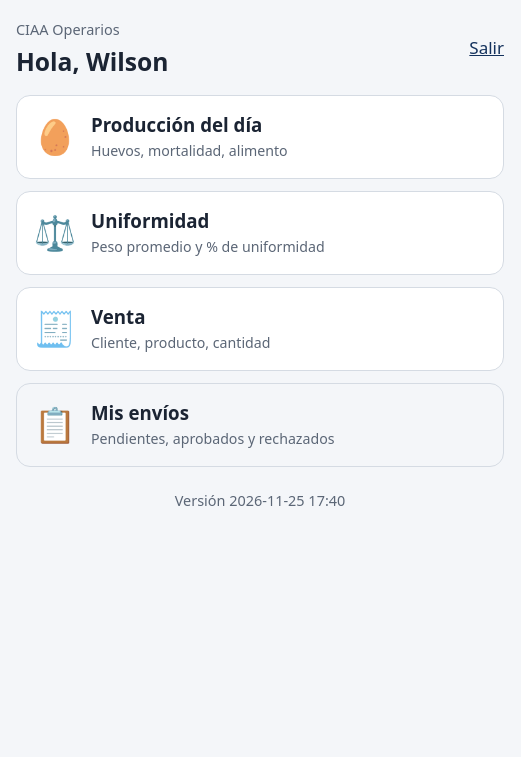
registra la producción del día y la envía
The width and height of the screenshot is (521, 757).
Click the button "Producción del día" at (260, 137), box 16,95 -> 504,179
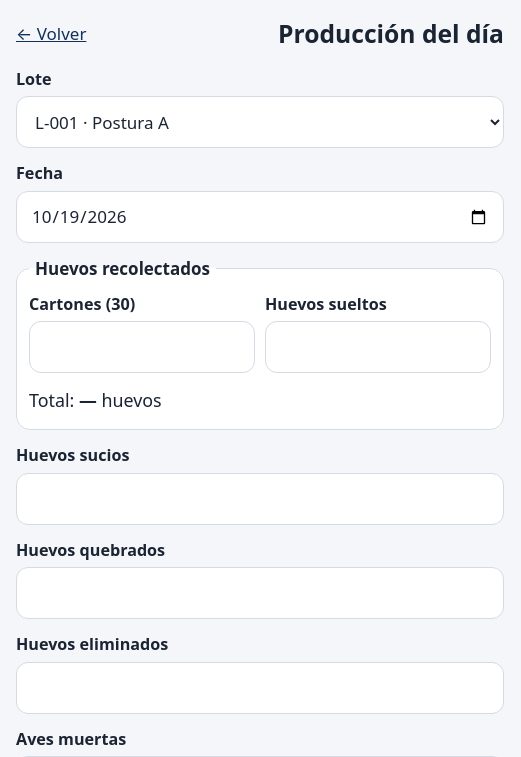
Type "45" into the field labelled "Cartones (30)" at (142, 347), box 29,321 -> 255,373
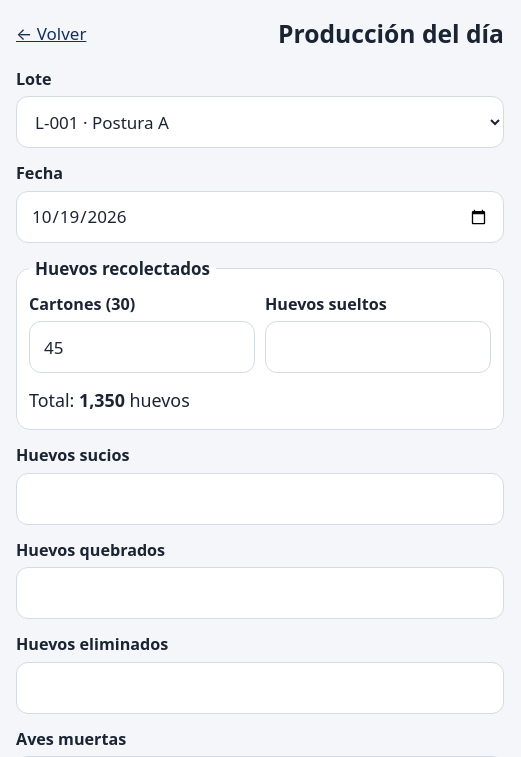
Type "12" into the field labelled "Huevos sueltos" at (378, 347), box 265,321 -> 491,373
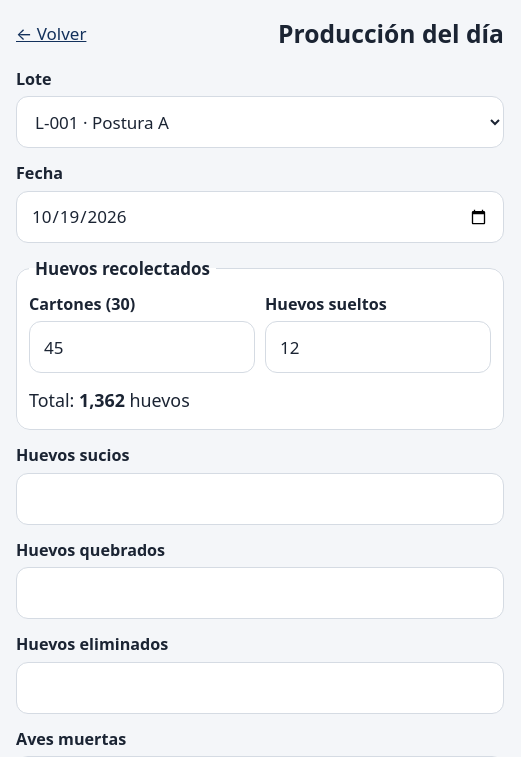
Type "10" into the field labelled "Huevos quebrados" at (260, 593), box 16,567 -> 504,619
(page scrolled)
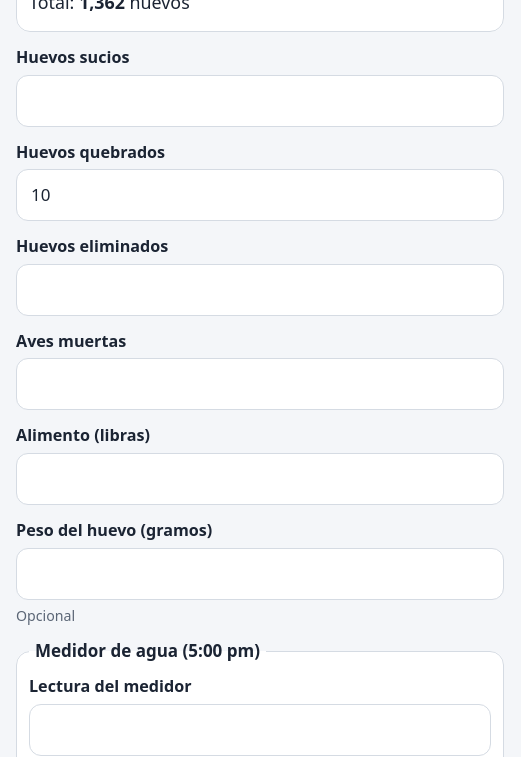
Type "2" into the field labelled "Aves muertas" at (260, 384), box 16,358 -> 504,410
(page scrolled)
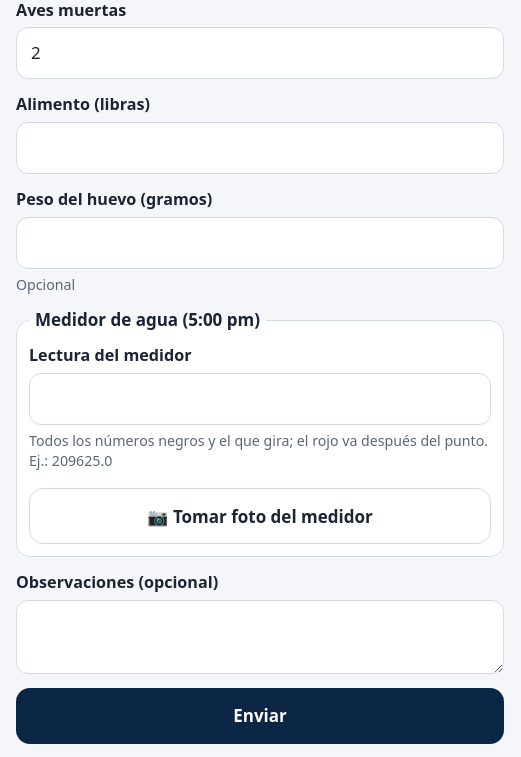
Click the button "Enviar" at (260, 716), box 16,688 -> 504,744
(page scrolled)
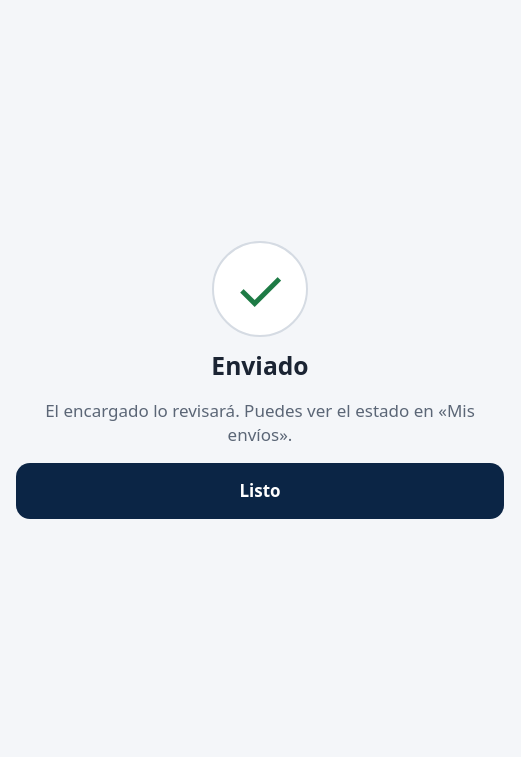
Check: the heading "Enviado" is shown, box 211,349 -> 309,383
